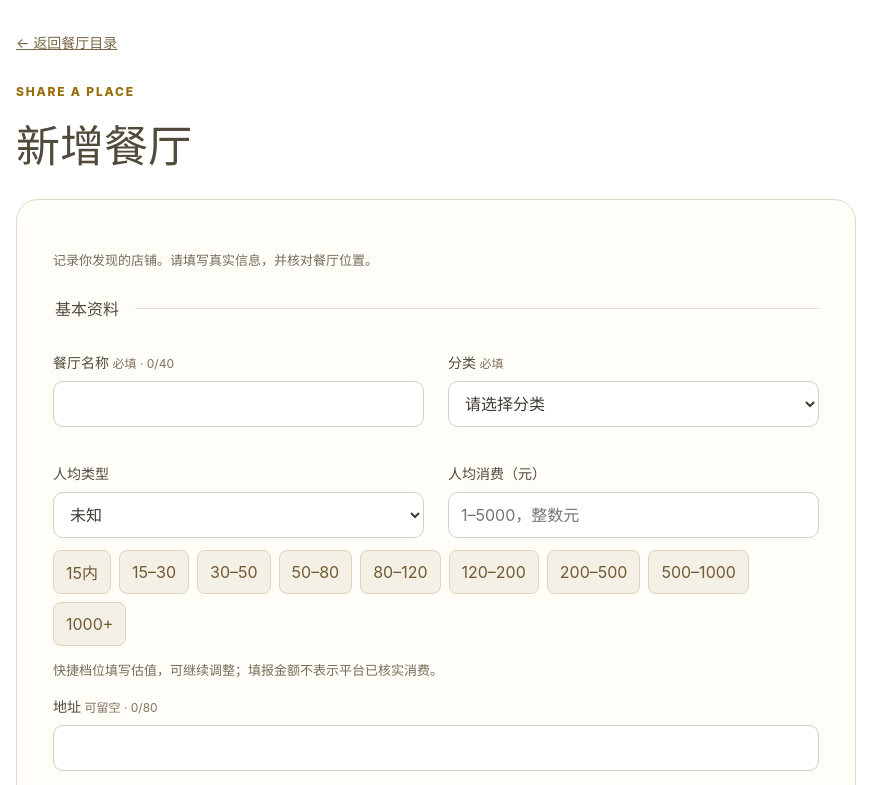
Scenario: restaurant maintenance form › treats POST timeout as an unknown result and never auto retries
The image size is (873, 785).
Type "新建测试店" into the field with id "restaurant-name" at coordinates (238, 404), box [53,381,424,427]
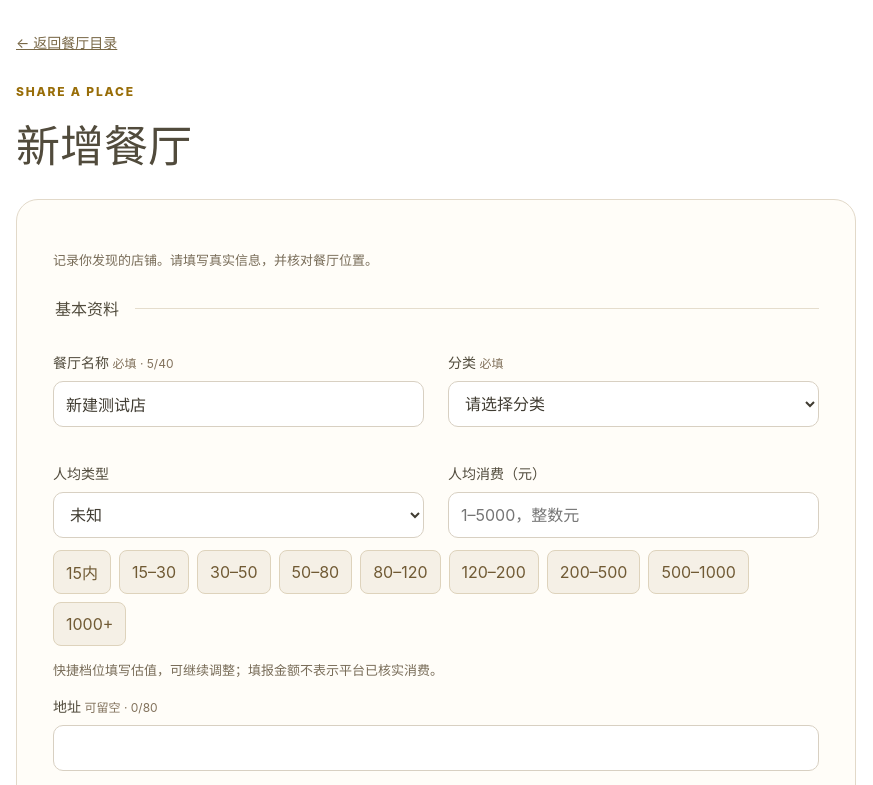
Select "火锅" in the dropdown labelled "分类 必填" at coordinates (634, 404), box [448,381,819,427]
(page scrolled)
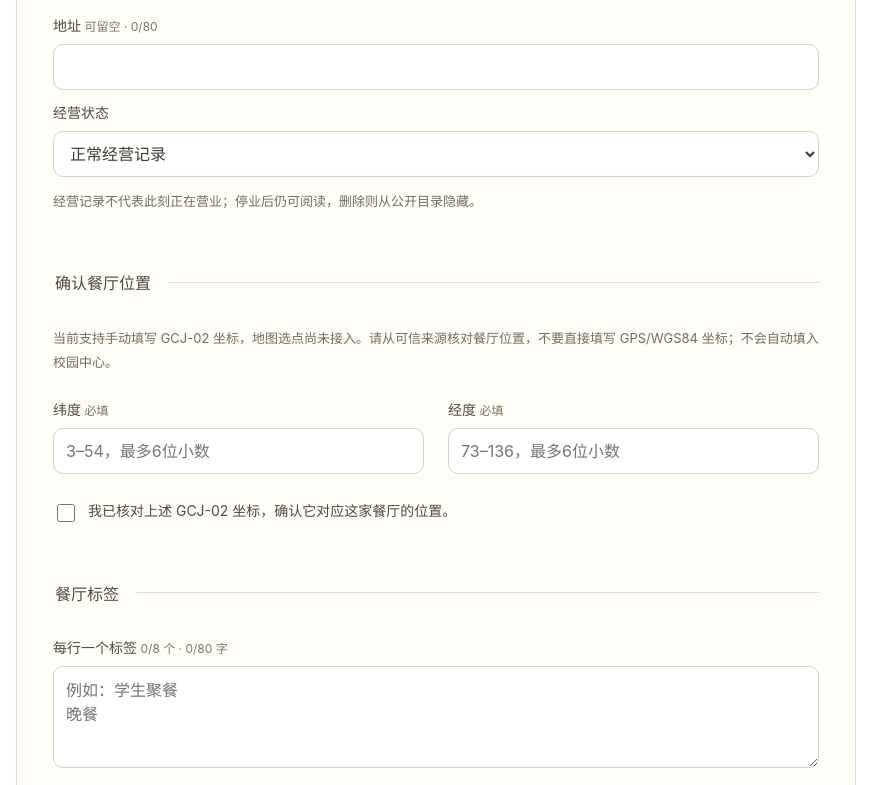
Type "30.7544" into the field labelled "纬度 必填" at coordinates (238, 451), box [53,428,424,474]
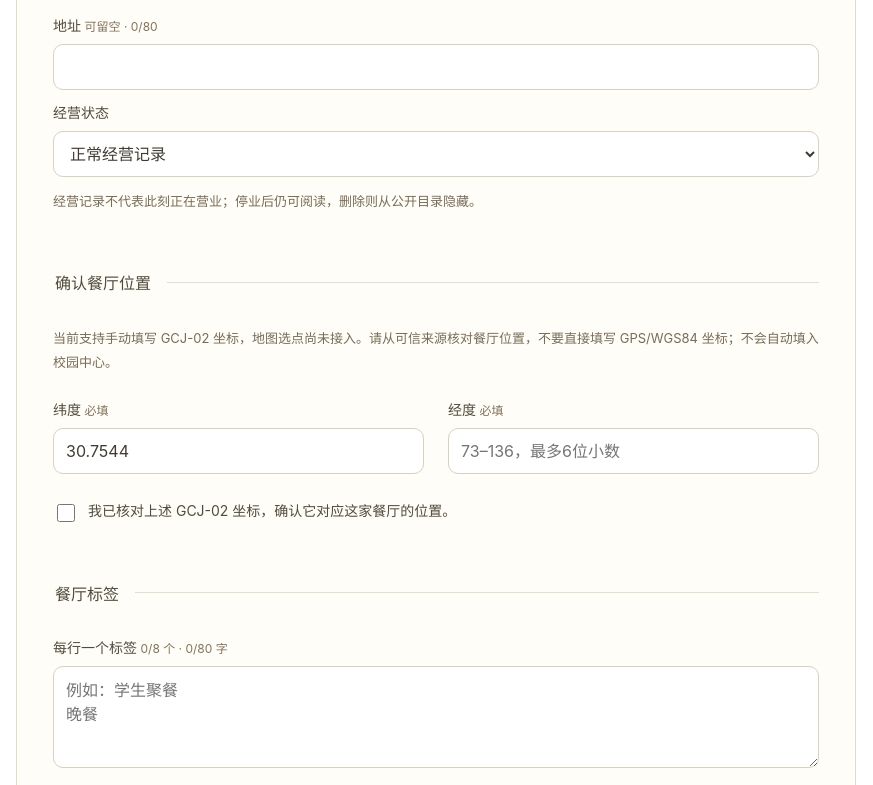
Type "103.9312" into the field labelled "经度 必填" at coordinates (634, 451), box [448,428,819,474]
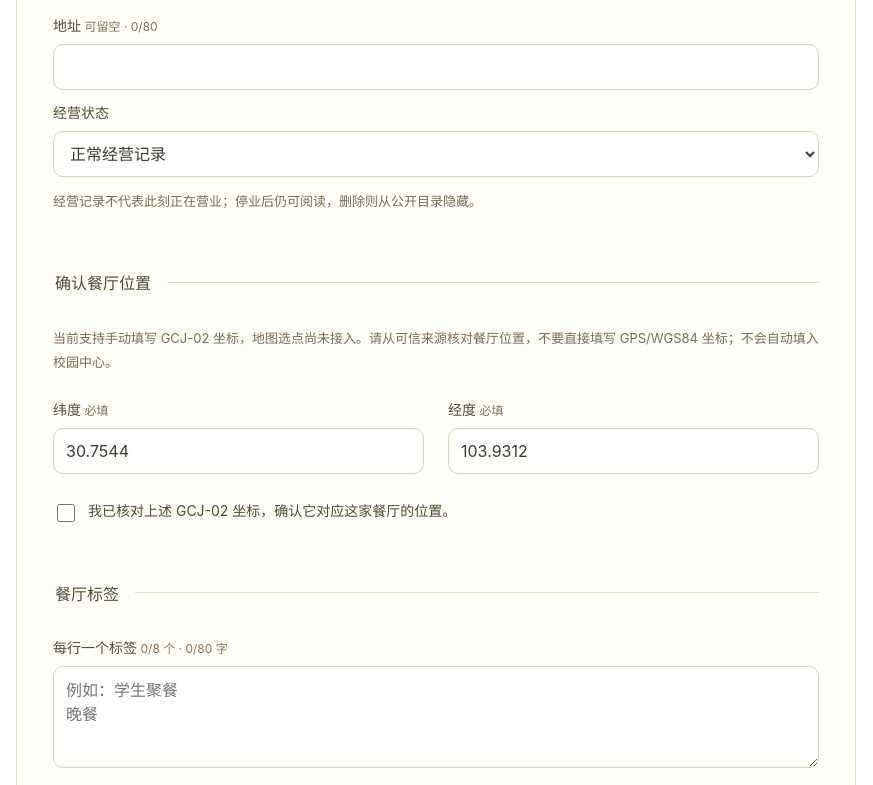
Click the checkbox with id "restaurant-location-confirmed" at coordinates (66, 513), box [57,504,75,522]
(page scrolled)
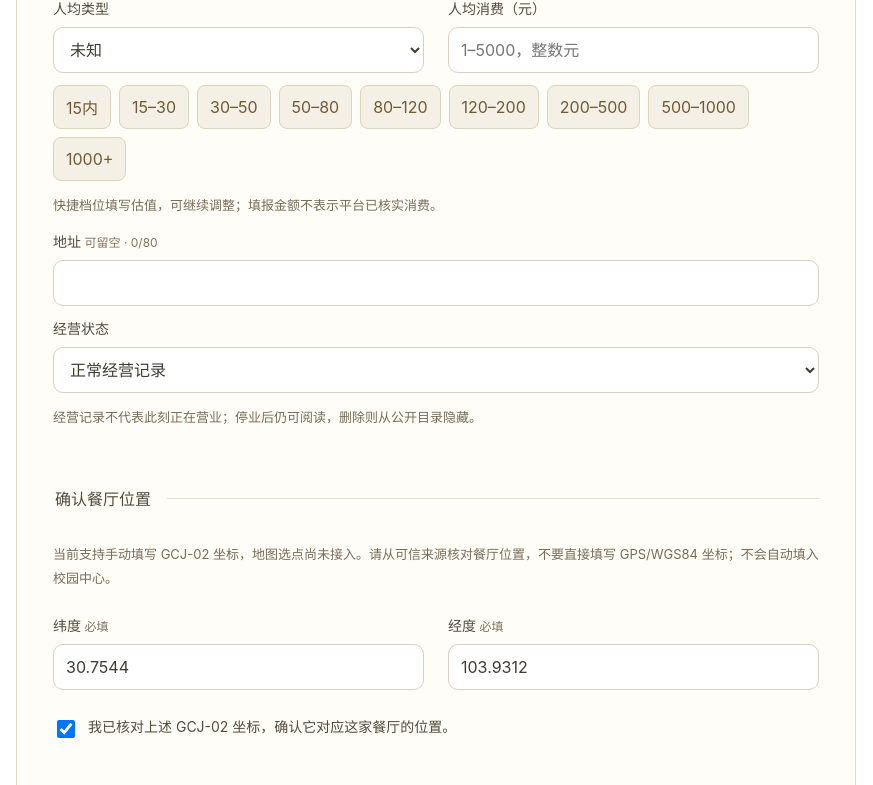
Submit the form
(page scrolled)
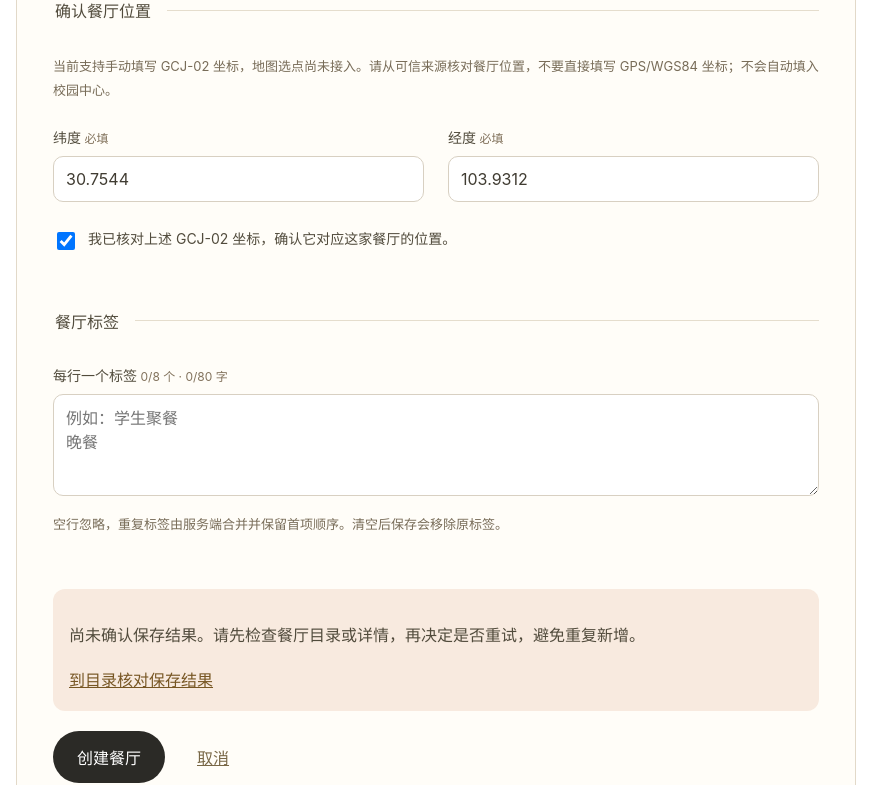
Expected: the message "尚未确认保存结果。请先检查餐厅目录或详情，再决定是否重试，避免重复新增。 到目录核对保存结果" is shown, [53,589,819,711]
